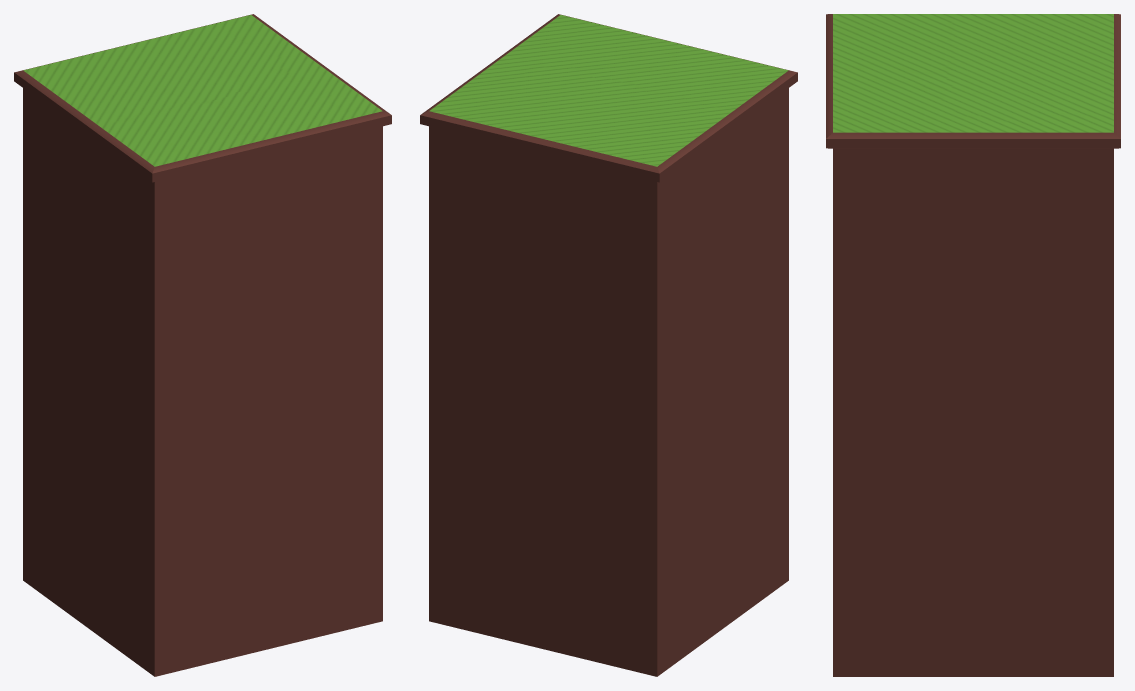
The model's file is Ground Bricks 1.fbx.
3 renders of one model, left to right at view 1: azimuth 30°, elevation 25°; view 2: azimuth 150°, elevation 25°; view 3: azimuth 270°, elevation 25°, orthographic. The views are drawn at different scales.
Visible parts, largest first — view 1: Ground_Bricks_1; view 2: Ground_Bricks_1; view 3: Ground_Bricks_1.
Part boxes in pixels (bbox=[...]): Ground_Bricks_1: bbox=[14, 14, 391, 676]; Ground_Bricks_1: bbox=[420, 14, 797, 676]; Ground_Bricks_1: bbox=[826, 14, 1120, 676].
Bounding box in the file's own units: 4.2 × 8.55 × 4.2.
